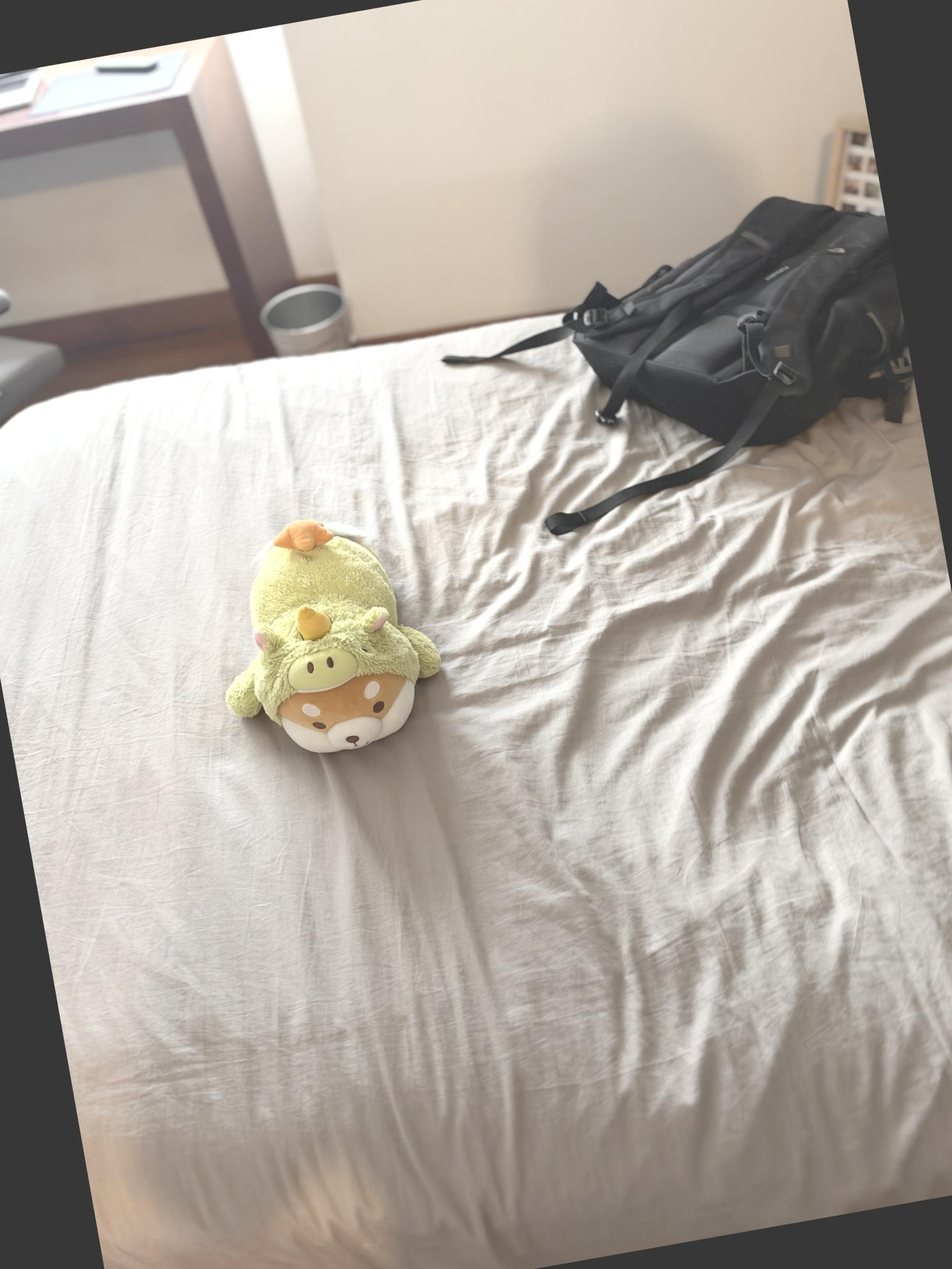peluche_martin: (196, 498, 455, 771)
